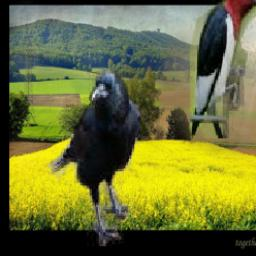Crow: (43, 61, 141, 246)
Woodpecker: (190, 0, 256, 138)
